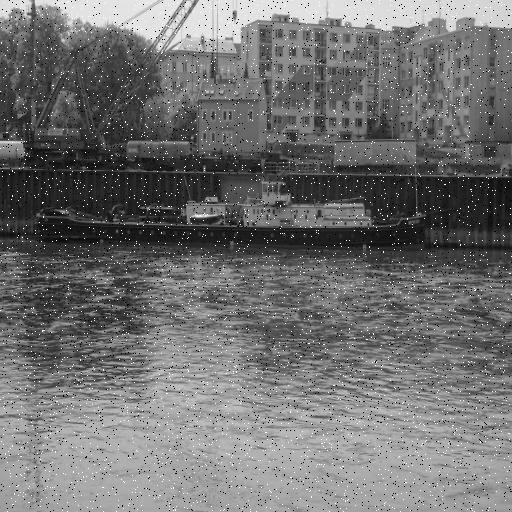tugboat: (31, 180, 435, 258)
